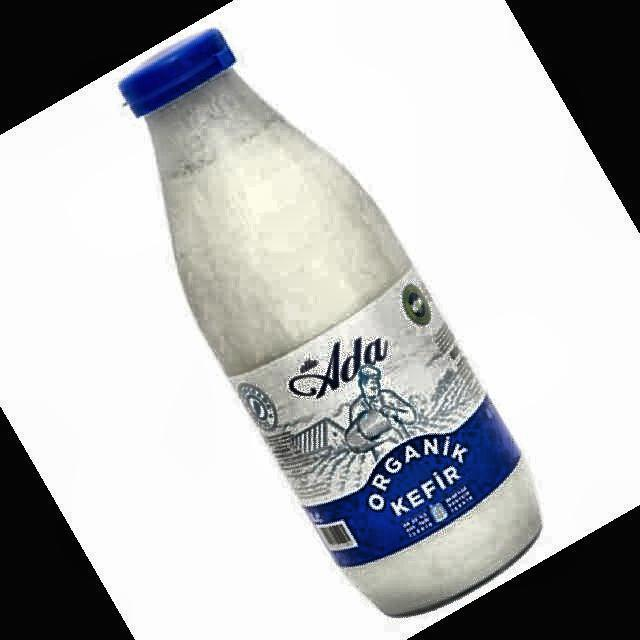plastic: (120, 29, 541, 615)
